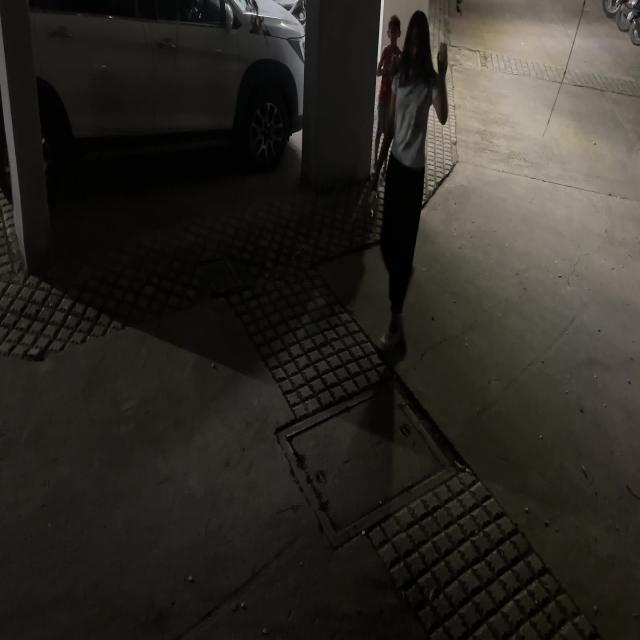garbage_dumping: (436, 24, 452, 65)
